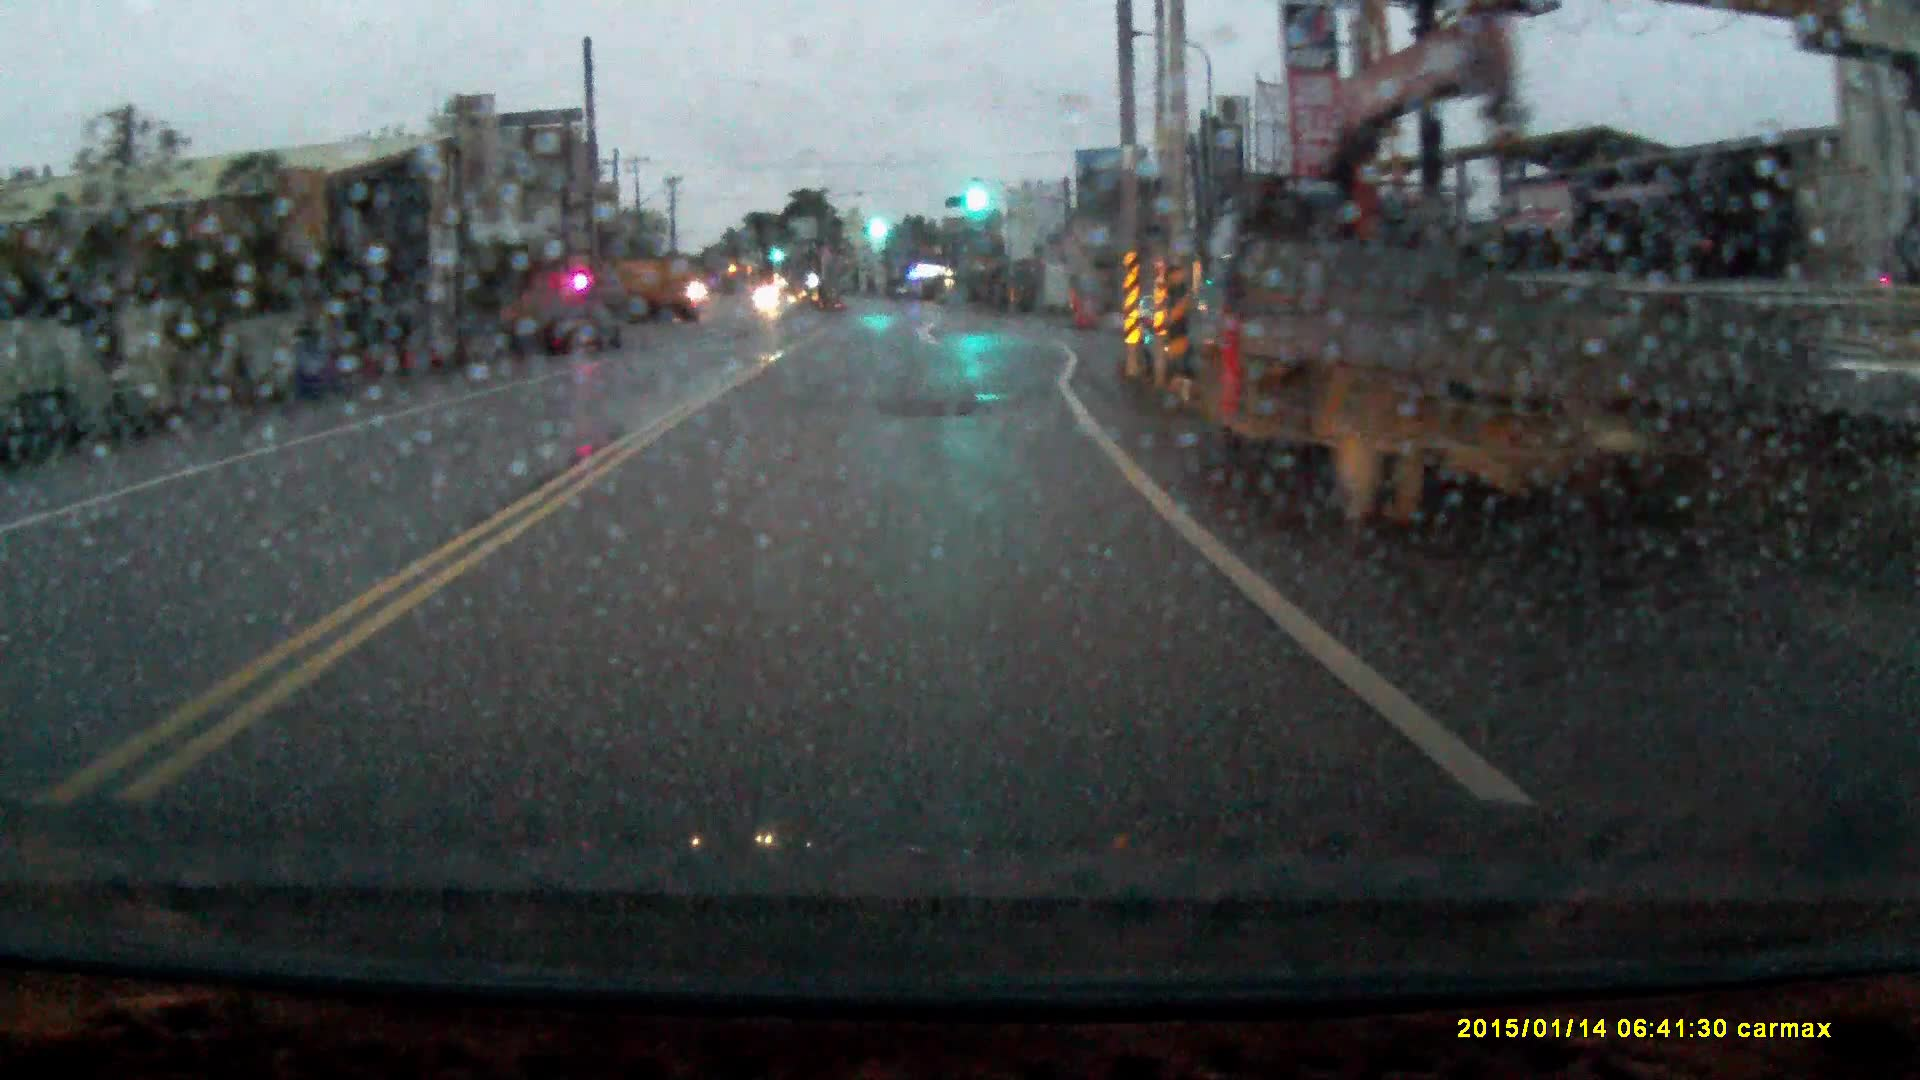vehicle: (1175, 199, 1825, 575), (595, 256, 694, 328), (547, 306, 621, 356)
